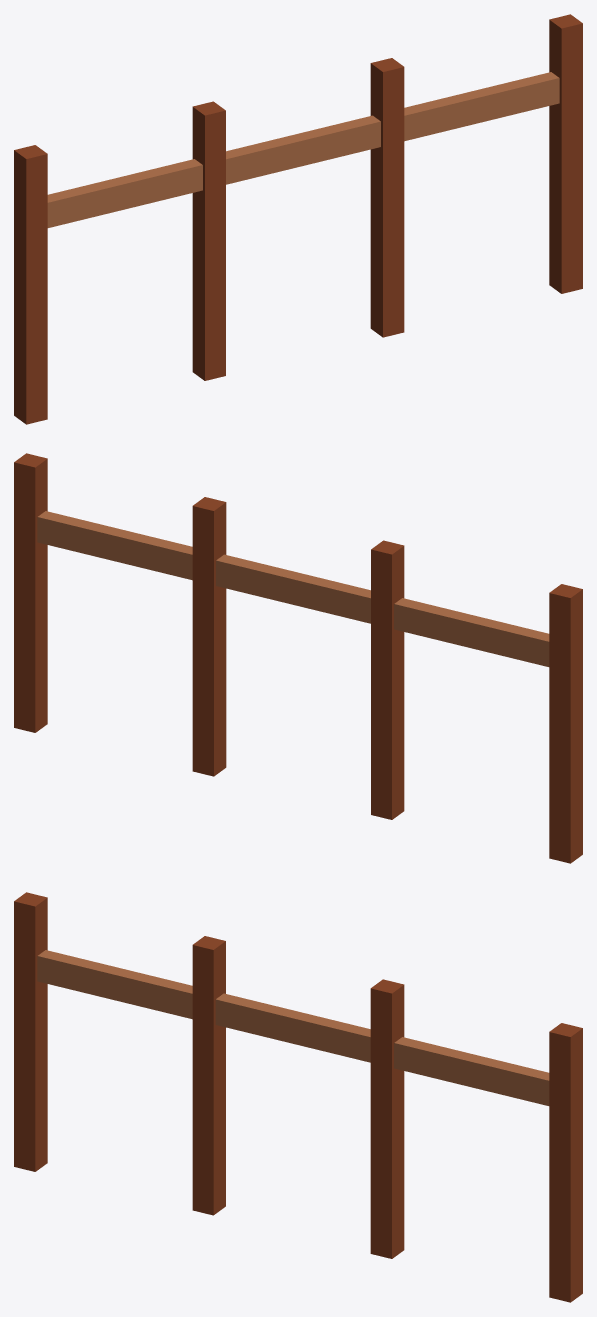
File: Gate_A.fbx
The picture shows the model from 3 angles, top to bottom: view 1: azimuth 30°, elevation 25°; view 2: azimuth 150°, elevation 25°; view 3: azimuth 330°, elevation 25°; orthographic projection.
Visible parts, largest first — view 1: Box004; view 2: Box004; view 3: Box004.
Part boxes in pixels (x1,y1,x2,y2): Box004: (14, 14, 582, 424); Box004: (14, 453, 582, 863); Box004: (14, 892, 582, 1302).
Size of the model in its own units: 286 by 130 by 11.
